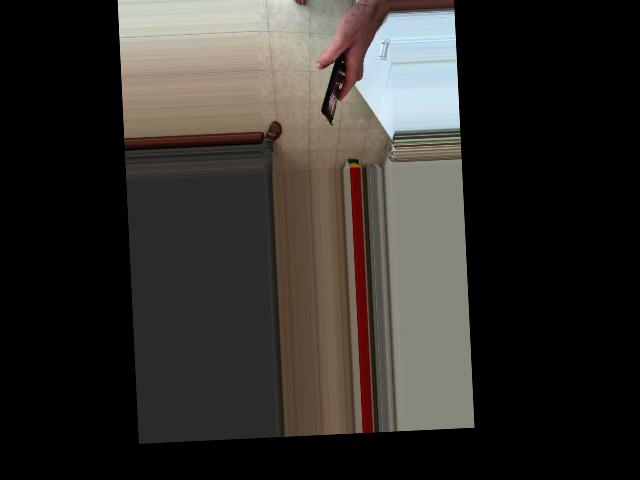chocolate: (315, 4, 363, 124)
